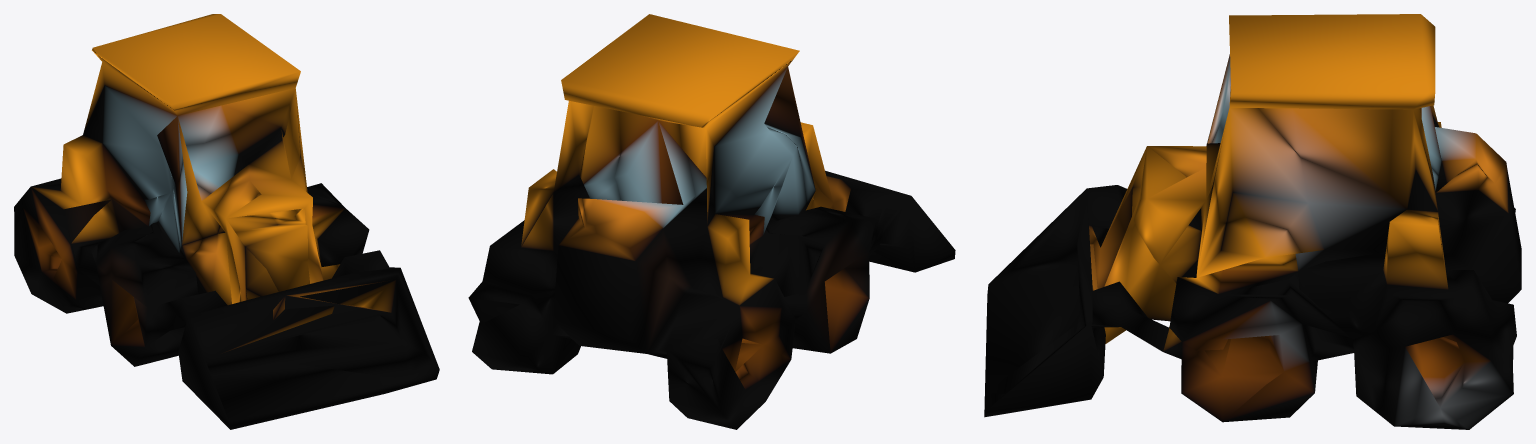
File: gen3d-bulldozer-lod1.glb
3 views of the same model, side by side, from view 1: azimuth 30°, elevation 25°; view 2: azimuth 150°, elevation 25°; view 3: azimuth 270°, elevation 25° (orthographic). The views are drawn at different scales.
Visible parts, largest first — view 1: part_0; view 2: part_0; view 3: part_0.
Part boxes in pixels (x1,y1,x2,y2): part_0: (14, 14, 439, 429); part_0: (468, 14, 955, 429); part_0: (984, 14, 1521, 429).
Bounding box in the file's own units: 0.9085 × 0.9927 × 1.54.
